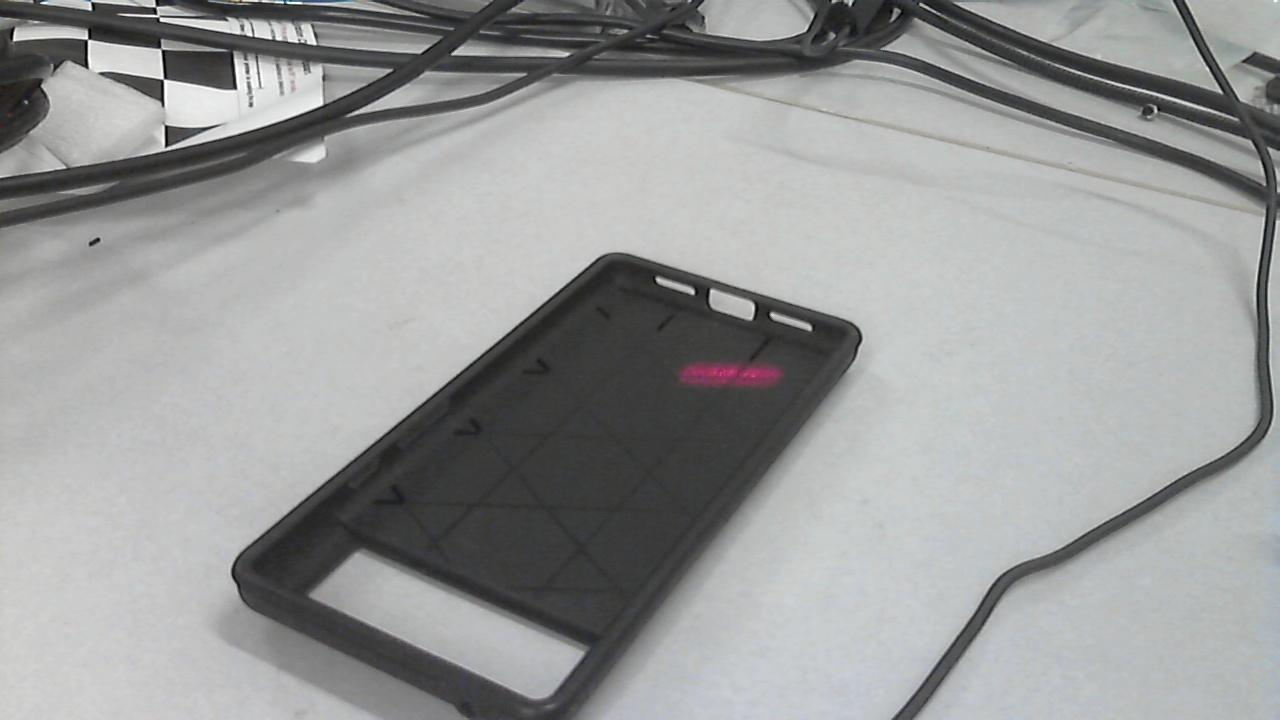Object protective phone case - Material rubber - Pdfname asdfeafgta: (670, 365, 791, 391)
